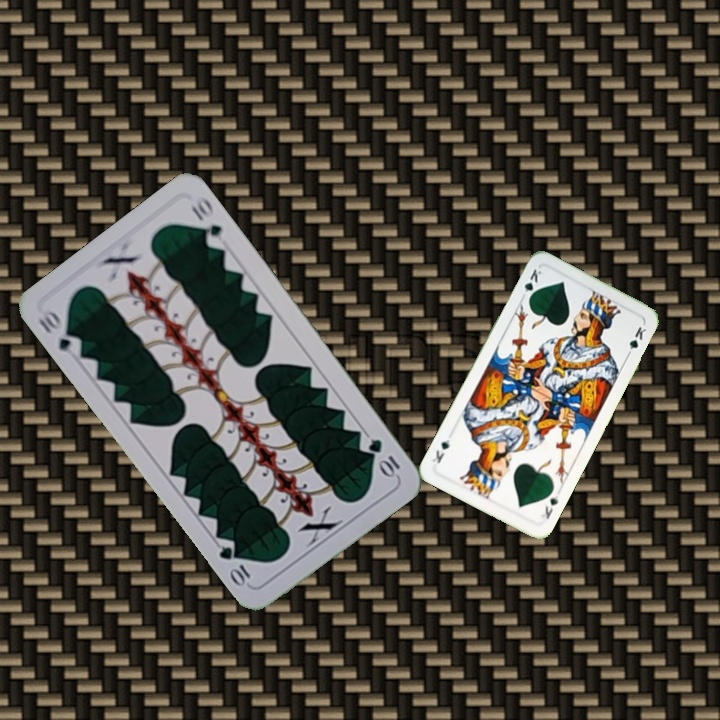G10: (33, 306, 85, 355), (364, 435, 403, 481)
GK: (517, 265, 545, 304), (537, 490, 561, 521)
